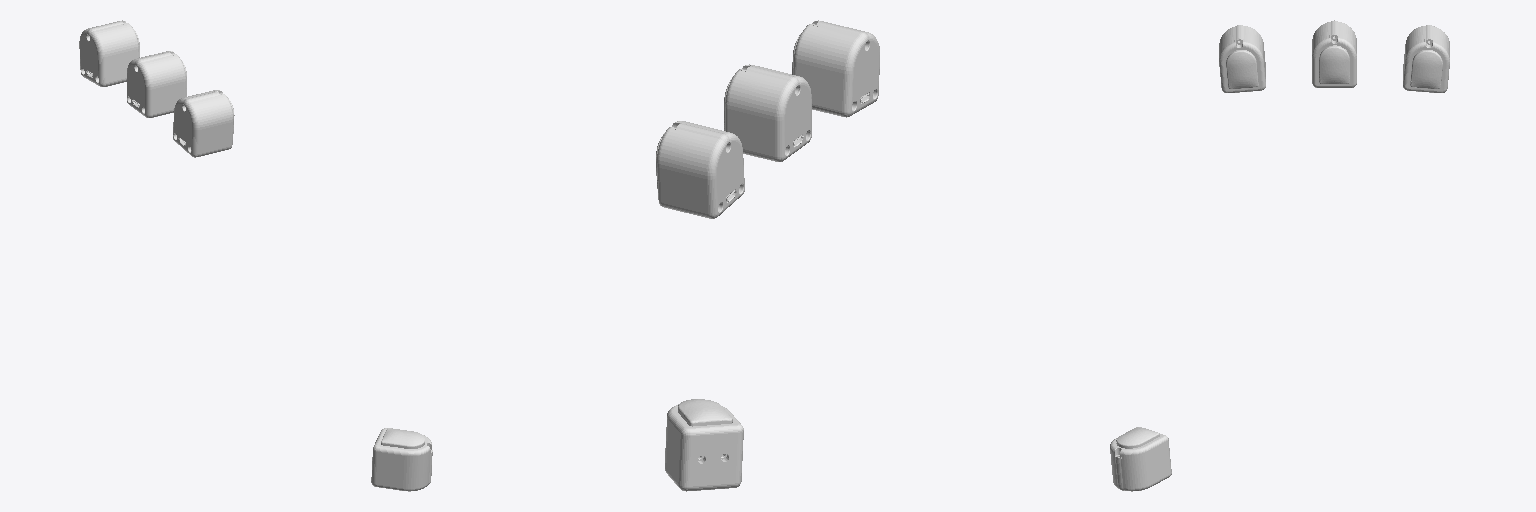
URDF robot description (allegro_hand_left):
<?xml version="1.0" ?>

<robot name="allegro_hand_left" xmlns:xacro="http://www.ros.org/wiki/xacro">
  <link name="base_link">
    <visual>
      <geometry>
        <mesh filename="meshes_STL/base_link_left.STL"/>
      </geometry>
      <origin rpy="-1.5707963259 0 0" xyz="0 0 0 "/>
      <material name="black">
        <color rgba="0.2 0.2 0.2 1"/>
      </material>
    </visual>
    <collision>
      <geometry>
        <mesh filename="meshes_STL/base_link_left.STL"/>
      </geometry>
    </collision>
     <inertial>
      <mass value="1"/>
      <inertia ixx="0.0" ixy="0.0" ixz="0.0" iyy="0.0" iyz="0.0" izz="0.0"/>
    </inertial>
  </link>

  <link name="link_8.0">
    <visual>
      <geometry>
        <mesh filename="meshes_STL/link_0.0.STL"/>
      </geometry>
      <material name="black"/>
    </visual>
    <collision>
      <geometry>
        <mesh filename="meshes_STL/link_0.0.STL"/>
      </geometry>
    </collision>
     <inertial>
      <mass value="1"/>
      <inertia ixx="0.0" ixy="0.0" ixz="0.0" iyy="0.0" iyz="0.0" izz="0.0"/>
    </inertial>
  </link>
  <joint name="joint_8.0" type="revolute">
    <axis xyz="0 0 1"/>
    <limit effort="0" lower="-0.47" upper="0.47" velocity="0"/>
    <parent link="base_link"/>
    <child link="link_8.0"/>
    <origin rpy="-0.08726646255 0 0" xyz="0 0.0435 -0.001542"/>
  </joint>
  <link name="link_9.0">
    <visual>
      <geometry>
        <mesh filename="meshes_STL/link_1.0.STL"/>
      </geometry>
      <material name="black"/>
    </visual>
    <collision>
     <geometry>
        <mesh filename="meshes_STL/link_1.0.STL"/>
      </geometry>
    </collision>
     <inertial>
      <mass value="1"/>
      <inertia ixx="0.0" ixy="0.0" ixz="0.0" iyy="0.0" iyz="0.0" izz="0.0"/>
    </inertial>
  </link>
  <joint name="joint_9.0" type="revolute">
    <limit effort="0" lower="-0.196" upper="1.61" velocity="0"/>
    <axis xyz="0 1 0"/>
    <parent link="link_8.0"/>
    <child link="link_9.0"/>
    <origin xyz="0 0 0.0164"/>
  </joint>
  <link name="link_10.0">
    <visual>
      <geometry>
        <mesh filename="meshes_STL/link_2.0.STL"/>
      </geometry>
      <material name="black"/>
    </visual>
    <collision>
     <geometry>
        <mesh filename="meshes_STL/link_2.0.STL"/>
      </geometry>
    </collision>
     <inertial>
      <mass value="1"/>
      <inertia ixx="0.0" ixy="0.0" ixz="0.0" iyy="0.0" iyz="0.0" izz="0.0"/>
    </inertial>
  </link>
  <joint name="joint_10.0" type="revolute">
    <axis xyz="0 1 0"/>
    <limit effort="0" lower="-0.174" upper="1.709" velocity="0"/>
    <parent link="link_9.0"/>
    <child link="link_10.0"/>
    <origin xyz="0 0 0.054"/>
  </joint>
  <link name="link_11.0">
    <visual>
      <geometry>
        <mesh filename="meshes_STL/link_3.0.STL"/>
      </geometry>
      <material name="black"/>
    </visual>
    <collision>
      <geometry>
        <mesh filename="meshes_STL/link_3.0.STL"/>
      </geometry>
    </collision>
     <inertial>
      <mass value="1"/>
      <inertia ixx="0.0" ixy="0.0" ixz="0.0" iyy="0.0" iyz="0.0" izz="0.0"/>
    </inertial>
  </link>
  <joint name="joint_11.0" type="revolute">
    <axis xyz="0 1 0"/>
    <limit effort="0" lower="-0.227" upper="1.618" velocity="0"/>
    <parent link="link_10.0"/>
    <child link="link_11.0"/>
    <origin xyz="0 0 0.0384"/>
  </joint>
  <link name="link_11.0_tip">
    <visual>
      <geometry>
        <mesh filename="meshes_STL/digit.STL"/>
      </geometry>
      <material name="white">
        <color rgba=".9 .9 .9 1"/>
      </material>
    </visual>
    <collision>
       <geometry>
        <box size="0.028 0.028 0.034"/>
      </geometry>
      <origin rpy="0 0 0" xyz="-.0023 0 0"/>
    </collision>
     <inertial>
      <mass value="1"/>
      <inertia ixx="0.0" ixy="0.0" ixz="0.0" iyy="0.0" iyz="0.0" izz="0.0"/>
    </inertial>
  </link>
  <joint name="joint_11.0_tip" type="fixed">
    <parent link="link_11.0"/>
    <child link="link_11.0_tip"/>
    <origin rpy="0 0 0" xyz="0 0 0.0147"/>
  </joint>
  <link name="link_4.0">
    <visual>
      <geometry>
        <mesh filename="meshes_STL/link_0.0.STL"/>
      </geometry>
      <material name="black"/>
    </visual>
    <collision>
      <geometry>
        <mesh filename="meshes_STL/link_0.0.STL"/>
      </geometry>
    </collision>
     <inertial>
      <mass value="1"/>
      <inertia ixx="0.0" ixy="0.0" ixz="0.0" iyy="0.0" iyz="0.0" izz="0.0"/>
    </inertial>
  </link>
  <joint name="joint_4.0" type="revolute">
    <axis xyz="0 0 1"/>
    <limit effort="0" lower="-0.47" upper="0.47" velocity="0"/>
    <parent link="base_link"/>
    <child link="link_4.0"/>
    <origin rpy="0.0 0 0" xyz="0 0 0.0007"/>
  </joint>
  <link name="link_5.0">
    <visual>
      <geometry>
        <mesh filename="meshes_STL/link_1.0.STL"/>
      </geometry>
      <material name="black"/>
    </visual>
    <collision>
     <geometry>
        <mesh filename="meshes_STL/link_1.0.STL"/>
      </geometry>
    </collision>
     <inertial>
      <mass value="1"/>
      <inertia ixx="0.0" ixy="0.0" ixz="0.0" iyy="0.0" iyz="0.0" izz="0.0"/>
    </inertial>
  </link>
  <joint name="joint_5.0" type="revolute">
    <limit effort="0" lower="-0.196" upper="1.61" velocity="0"/>
    <axis xyz="0 1 0"/>
    <parent link="link_4.0"/>
    <child link="link_5.0"/>
    <origin xyz="0 0 0.0164"/>
  </joint>
  <link name="link_6.0">
    <visual>
      <geometry>
        <mesh filename="meshes_STL/link_2.0.STL"/>
      </geometry>
      <material name="black"/>
    </visual>
    <collision>
      <geometry>
        <mesh filename="meshes_STL/link_2.0.STL"/>
      </geometry>
    </collision>
     <inertial>
      <mass value="1"/>
      <inertia ixx="0.0" ixy="0.0" ixz="0.0" iyy="0.0" iyz="0.0" izz="0.0"/>
    </inertial>
  </link>
  <joint name="joint_6.0" type="revolute">
    <axis xyz="0 1 0"/>
    <limit effort="0" lower="-0.174" upper="1.709" velocity="0"/>
    <parent link="link_5.0"/>
    <child link="link_6.0"/>
    <origin xyz="0 0 0.054"/>
  </joint>
  <link name="link_7.0">
    <visual>
      <geometry>
        <mesh filename="meshes_STL/link_3.0.STL"/>
      </geometry>
      <material name="black"/>
    </visual>
    <collision>
     <geometry>
        <mesh filename="meshes_STL/link_3.0.STL"/>
      </geometry>
    </collision>
     <inertial>
      <mass value="1"/>
      <inertia ixx="0.0" ixy="0.0" ixz="0.0" iyy="0.0" iyz="0.0" izz="0.0"/>
    </inertial>
  </link>
  <joint name="joint_7.0" type="revolute">
    <axis xyz="0 1 0"/>
    <limit effort="0" lower="-0.227" upper="1.618" velocity="0"/>
    <parent link="link_6.0"/>
    <child link="link_7.0"/>
    <origin xyz="0 0 0.0384"/>
  </joint>
  <link name="link_7.0_tip">
    <visual>
      <geometry>
        <mesh filename="meshes_STL/digit.STL"/>
      </geometry>
      <material name="white">
        <color rgba=".9 .9 .9 1"/>
      </material>
    </visual>
    <collision>
     <geometry>
        <box size="0.028 0.028 0.034"/>
      </geometry>
      <origin rpy="0 0 0" xyz="-.0023 0 0"/>
    </collision>
     <inertial>
      <mass value="1"/>
      <inertia ixx="0.0" ixy="0.0" ixz="0.0" iyy="0.0" iyz="0.0" izz="0.0"/>
    </inertial>
  </link>
  <joint name="joint_7.0_tip" type="fixed">
    <parent link="link_7.0"/>
    <child link="link_7.0_tip"/>
    <origin rpy="0 0 0" xyz="0 0 0.0147"/>
  </joint>
  <link name="link_0.0">
    <visual>
      <geometry>
        <mesh filename="meshes_STL/link_0.0.STL"/>
      </geometry>
      <material name="black"/>
    </visual>
    <collision>
      <geometry>
        <mesh filename="meshes_STL/link_0.0.STL"/>
      </geometry>
    </collision>
     <inertial>
      <mass value="1"/>
      <inertia ixx="0.0" ixy="0.0" ixz="0.0" iyy="0.0" iyz="0.0" izz="0.0"/>
    </inertial>
  </link>
  <joint name="joint_0.0" type="revolute">
    <axis xyz="0 0 1"/>
    <limit effort="0" lower="-0.47" upper="0.47" velocity="0"/>
    <parent link="base_link"/>
    <child link="link_0.0"/>
    <origin rpy="0.08726646255 0 0" xyz="0 -0.0435 -0.001542"/>
  </joint>
  <link name="link_1.0">
    <visual>
      <geometry>
        <mesh filename="meshes_STL/link_1.0.STL"/>
      </geometry>
      <material name="black"/>
    </visual>
    <collision>
      <geometry>
        <mesh filename="meshes_STL/link_1.0.STL"/>
      </geometry>
    </collision>
     <inertial>
      <mass value="1"/>
      <inertia ixx="0.0" ixy="0.0" ixz="0.0" iyy="0.0" iyz="0.0" izz="0.0"/>
    </inertial>
  </link>
  <joint name="joint_1.0" type="revolute">
    <limit effort="0" lower="-0.196" upper="1.61" velocity="0"/>
    <axis xyz="0 1 0"/>
    <parent link="link_0.0"/>
    <child link="link_1.0"/>
    <origin xyz="0 0 0.0164"/>
  </joint>
  <link name="link_2.0">
    <visual>
      <geometry>
        <mesh filename="meshes_STL/link_2.0.STL"/>
      </geometry>
      <material name="black"/>
    </visual>
    <collision>
      <geometry>
        <mesh filename="meshes_STL/link_2.0.STL"/>
      </geometry>
    </collision>
     <inertial>
      <mass value="1"/>
      <inertia ixx="0.0" ixy="0.0" ixz="0.0" iyy="0.0" iyz="0.0" izz="0.0"/>
    </inertial>
  </link>
  <joint name="joint_2.0" type="revolute">
    <axis xyz="0 1 0"/>
    <limit effort="0" lower="-0.174" upper="1.709" velocity="0"/>
    <parent link="link_1.0"/>
    <child link="link_2.0"/>
    <origin xyz="0 0 0.054"/>
  </joint>
  <link name="link_3.0">
    <visual>
      <geometry>
        <mesh filename="meshes_STL/link_3.0.STL"/>
      </geometry>
      <material name="black"/>
    </visual>
    <collision>
     <geometry>
        <mesh filename="meshes_STL/link_3.0.STL"/>
      </geometry>
    </collision>
     <inertial>
      <mass value="1"/>
      <inertia ixx="0.0" ixy="0.0" ixz="0.0" iyy="0.0" iyz="0.0" izz="0.0"/>
    </inertial>
  </link>
  <joint name="joint_3.0" type="revolute">
    <axis xyz="0 1 0"/>
    <limit effort="0" lower="-0.227" upper="1.618" velocity="0"/>
    <parent link="link_2.0"/>
    <child link="link_3.0"/>
    <origin xyz="0 0 0.0384"/>
  </joint>
  <link name="link_3.0_tip">
    <visual>
      <geometry>
        <mesh filename="meshes_STL/digit.STL"/>
      </geometry>
      <material name="white">
        <color rgba=".9 .9 .9 1"/>
      </material>
    </visual>
    <collision>
       <geometry>
        <box size="0.028 0.028 0.034"/>
      </geometry>
      <origin rpy="0 0 0" xyz="-.0023 0 0"/>
    </collision>
     <inertial>
      <mass value="1"/>
      <inertia ixx="0.0" ixy="0.0" ixz="0.0" iyy="0.0" iyz="0.0" izz="0.0"/>
    </inertial>
  </link>
  <joint name="joint_3.0_tip" type="fixed">
    <parent link="link_3.0"/>
    <child link="link_3.0_tip"/>
    <origin rpy="0 0 0" xyz="0 0 0.0147"/>
  </joint>


  <link name="link_12.0">
    <visual>
      <geometry>
        <mesh filename="meshes_STL/link_12.0_left.STL"/>
      </geometry>
      <material name="black">
        <color rgba=".2 .2 .2 1"/>
      </material>
      <origin rpy="3.1415926518 0 0" xyz="0 0 0"/>
    </visual>
    <collision>
      <geometry>
        <mesh filename="meshes_STL/link_12.0_left.STL"/>
      </geometry>
    </collision>
     <inertial>
      <mass value="1"/>
      <inertia ixx="0.0" ixy="0.0" ixz="0.0" iyy="0.0" iyz="0.0" izz="0.0"/>
    </inertial>
  </link>
  <joint name="joint_12.0" type="revolute">
    <axis xyz="+1 0 0"/>
    <limit effort="0" lower="0.263" upper="1.396" velocity="0"/>
    <parent link="base_link"/>
    <child link="link_12.0"/>
    <origin rpy="0 -1.65806278845 1.5707963259" xyz="-0.0182 -0.019333 -0.045987"/>
  </joint>
  <link name="link_13.0">
    <visual>
      <geometry>
        <mesh filename="meshes_STL/link_13.0.STL"/>
      </geometry>
      <material name="black">
        <color rgba=".2 .2 .2 1"/>
      </material>
    </visual>
    <collision>
      <geometry>
        <mesh filename="meshes_STL/link_13.0.STL"/>
      </geometry>
    </collision>
     <inertial>
      <mass value="1"/>
      <inertia ixx="0.0" ixy="0.0" ixz="0.0" iyy="0.0" iyz="0.0" izz="0.0"/>
    </inertial>
  </link>
  <joint name="joint_13.0" type="revolute">
    <axis xyz="0 0 -1"/>
    <limit effort="0" lower="-0.105" upper="1.163" velocity="0"/>
    <parent link="link_12.0"/>
    <child link="link_13.0"/>

    <origin xyz="-0.027 -0.005 0.0399"/>
  </joint>
  <link name="link_14.0">
    <visual>
      <geometry>
        <mesh filename="meshes_STL/link_14.0.STL"/>
      </geometry>
      <material name="black">
		  	</material>
    </visual>
    <collision>
      <geometry>
        <mesh filename="meshes_STL/link_14.0.STL"/>
      </geometry>
    </collision>
     <inertial>
      <mass value="1"/>
      <inertia ixx="0.0" ixy="0.0" ixz="0.0" iyy="0.0" iyz="0.0" izz="0.0"/>
    </inertial>
  </link>
  <joint name="joint_14.0" type="revolute">
    <axis xyz="0 1 0"/>
    <limit effort="0" lower="-0.189" upper="1.644" velocity="0"/>
    <parent link="link_13.0"/>
    <child link="link_14.0"/>
    <origin xyz="0 0 0.0177"/>
  </joint>
  <link name="link_15.0">
    <visual>
      <geometry>
        <mesh filename="meshes_STL/link_15.0.STL"/>
      </geometry>
      <material name="black">
    	</material>
    </visual>
    <collision>
       <geometry>
        <mesh filename="meshes_STL/link_15.0.STL"/>
      </geometry>
    </collision>
     <inertial>
      <mass value="1"/>
      <inertia ixx="0.0" ixy="0.0" ixz="0.0" iyy="0.0" iyz="0.0" izz="0.0"/>
    </inertial>
  </link>
  <joint name="joint_15.0" type="revolute">
    <axis xyz="0 1 0"/>
    <limit effort="0" lower="-0.162" upper="1.719" velocity="0"/>
    <parent link="link_14.0"/>
    <child link="link_15.0"/>
    <origin xyz="0 0 0.0514"/>
  </joint>
  <link name="link_15.0_tip">
    <visual>
      <geometry>
        <mesh filename="meshes_STL/digit.STL"/>
      </geometry>
      <material name="white">
        <color rgba=".9 .9 .9 1"/>
      </material>
    </visual>
    <collision>
      <geometry>
        <box size="0.028 0.028 0.034"/>
      </geometry>
      <origin rpy="0 0 0" xyz="-.0023 0 0"/>
    </collision>
     <inertial>
      <mass value="1"/>
      <inertia ixx="0.0" ixy="0.0" ixz="0.0" iyy="0.0" iyz="0.0" izz="0.0"/>
    </inertial>
  </link>
  <joint name="joint_15.0_tip" type="fixed">
    <parent link="link_15.0"/>
    <child link="link_15.0_tip"/>
    <origin rpy="0 0 0" xyz="0 0 0.0303"/>
  </joint>


  <link name="end_0">
    <visual>
      <geometry>
        <box size="0.0001 0.0001 0.0001"/>
      </geometry>
      <material name="red">
        <color rgba=".9, 0, 0,  1"/>
      </material>
    </visual>
    <collision>
       <geometry>
         <box size="0.0001 0.0001 0.0001"/>
      </geometry>
      <origin rpy="0 0 0" xyz="0 0 0"/>
    </collision>
     <inertial>
      <mass value="1"/>
      <inertia ixx="0.0" ixy="0.0" ixz="0.0" iyy="0.0" iyz="0.0" izz="0.0"/>
    </inertial>
  </link>
  <joint name="end_joint_0" type="fixed">
    <parent link="link_11.0_tip"/>
    <child link="end_0"/>
    <origin rpy="0 0 0" xyz="0.0185 0 0.0155"/>
  </joint>
  <link name="end_1">
    <visual>
      <geometry>
        <box size="0.0001 0.0001 0.0001"/>
      </geometry>
      <material name="red">
        <color rgba=".9, 0, 0,  1"/>
      </material>
    </visual>
    <collision>
       <geometry>
         <box size="0.0001 0.0001 0.0001"/>
      </geometry>
      <origin rpy="0 0 0" xyz="0 0 0"/>
    </collision>
     <inertial>
      <mass value="1"/>
      <inertia ixx="0.0" ixy="0.0" ixz="0.0" iyy="0.0" iyz="0.0" izz="0.0"/>
    </inertial>
  </link>
  <joint name="end_joint_1" type="fixed">
    <parent link="link_7.0_tip"/>
    <child link="end_1"/>
    <origin rpy="0 0 0" xyz="0.0185 0 0.0155"/>
  </joint>
  <link name="end_2">
    <visual>
      <geometry>
        <box size="0.0001 0.0001 0.0001"/>
      </geometry>
      <material name="red">
        <color rgba=".9, 0, 0,  1"/>
      </material>
    </visual>
    <collision>
       <geometry>
         <box size="0.0001 0.0001 0.0001"/>
      </geometry>
      <origin rpy="0 0 0" xyz="0 0 0"/>
    </collision>
     <inertial>
      <mass value="1"/>
      <inertia ixx="0.0" ixy="0.0" ixz="0.0" iyy="0.0" iyz="0.0" izz="0.0"/>
    </inertial>
  </link>
  <joint name="end_joint_2" type="fixed">
    <parent link="link_3.0_tip"/>
    <child link="end_2"/>
    <origin rpy="0 0 0" xyz="0.0185 0 0.0155"/>
  </joint>
  <link name="end_3">
    <visual>
      <geometry>
        <box size="0.0001 0.0001 0.0001"/>
      </geometry>
      <material name="red">
        <color rgba=".9, 0, 0,  1"/>
      </material>
    </visual>
    <collision>
       <geometry>
         <box size="0.0001 0.0001 0.0001"/>
      </geometry>
      <origin rpy="0 0 0" xyz="0 0 0"/>
    </collision>
     <inertial>
      <mass value="1"/>
      <inertia ixx="0.0" ixy="0.0" ixz="0.0" iyy="0.0" iyz="0.0" izz="0.0"/>
    </inertial>
  </link>
  <joint name="end_joint_3" type="fixed">
    <parent link="link_15.0_tip"/>
    <child link="end_3"/>
    <origin rpy="0 0 0" xyz="0.0185 0 0.0155"/>
  </joint>


    <link name="end_cam_0">
    <visual>
      <geometry>
        <box size="0.0001 0.0001 0.0001"/>
      </geometry>
      <material name="red">
        <color rgba=".9, 0, 0,  1"/>
      </material>
    </visual>
    <collision>
       <geometry>
         <box size="0.0001 0.0001 0.0001"/>
      </geometry>
      <origin rpy="0 0 0" xyz="0 0 0"/>
    </collision>
     <inertial>
      <mass value="1"/>
      <inertia ixx="0.0" ixy="0.0" ixz="0.0" iyy="0.0" iyz="0.0" izz="0.0"/>
    </inertial>
  </link>
  <joint name="end_cam_joint_0" type="fixed">
    <parent link="link_11.0_tip"/>
    <child link="end_cam_0"/>
    <origin rpy="0 0 0" xyz="-0.001073 0 0.017119"/>
  </joint>
   <link name="end_cam_1">
    <visual>
      <geometry>
        <box size="0.0001 0.0001 0.0001"/>
      </geometry>
      <material name="red">
        <color rgba=".9, 0, 0,  1"/>
      </material>
    </visual>
    <collision>
       <geometry>
         <box size="0.0001 0.0001 0.0001"/>
      </geometry>
      <origin rpy="0 0 0" xyz="0 0 0"/>
    </collision>
     <inertial>
      <mass value="1"/>
      <inertia ixx="0.0" ixy="0.0" ixz="0.0" iyy="0.0" iyz="0.0" izz="0.0"/>
    </inertial>
  </link>
  <joint name="end_cam_joint_1" type="fixed">
    <parent link="link_7.0_tip"/>
    <child link="end_cam_1"/>
    <origin rpy="0 0 0" xyz="-0.001073 0 0.017119"/>
  </joint>
  <link name="end_cam_2">
    <visual>
      <geometry>
        <box size="0.0001 0.0001 0.0001"/>
      </geometry>
      <material name="red">
        <color rgba=".9, 0, 0,  1"/>
      </material>
    </visual>
    <collision>
       <geometry>
         <box size="0.0001 0.0001 0.0001"/>
      </geometry>
      <origin rpy="0 0 0" xyz="0 0 0"/>
    </collision>
     <inertial>
      <mass value="1"/>
      <inertia ixx="0.0" ixy="0.0" ixz="0.0" iyy="0.0" iyz="0.0" izz="0.0"/>
    </inertial>
  </link>
  <joint name="end_cam_joint_2" type="fixed">
    <parent link="link_3.0_tip"/>
    <child link="end_cam_2"/>
    <origin rpy="0 0 0" xyz="-0.001073 0 0.017119"/>
  </joint>
  <link name="end_cam_3">
    <visual>
      <geometry>
        <box size="0.0001 0.0001 0.0001"/>
      </geometry>
      <material name="red">
        <color rgba=".9, 0, 0,  1"/>
      </material>
    </visual>
    <collision>
       <geometry>
         <box size="0.0001 0.0001 0.0001"/>
      </geometry>
      <origin rpy="0 0 0" xyz="0 0 0"/>
    </collision>
     <inertial>
      <mass value="1"/>
      <inertia ixx="0.0" ixy="0.0" ixz="0.0" iyy="0.0" iyz="0.0" izz="0.0"/>
    </inertial>
  </link>
  <joint name="end_cam_joint_3" type="fixed">
    <parent link="link_15.0_tip"/>
    <child link="end_cam_3"/>
    <origin rpy="0 0 0" xyz="-0.001073 0 0.017119"/>
  </joint>


</robot>

--- Facts derived from the render (not from the file) ---
Views: 3 orthographic renders of the robot side by side, from view 1: azimuth 30°, elevation 25°; view 2: azimuth 150°, elevation 25°; view 3: azimuth 270°, elevation 25°.
Robot: allegro_hand_left — 29 links, 28 joints (16 revolute, 12 fixed); root link base_link; default pose: joints at zero except 1 at the middle of their limits (joint_12.0 = 0.8295).
Visible links, largest first — view 1: link_3.0_tip, link_15.0_tip, link_7.0_tip, link_11.0_tip; view 2: link_11.0_tip, link_7.0_tip, link_3.0_tip, link_15.0_tip; view 3: link_15.0_tip, link_11.0_tip, link_3.0_tip, link_7.0_tip.
Link boxes in pixels (<box>): link_3.0_tip: <box>173,90,234,157</box>; link_15.0_tip: <box>371,428,432,491</box>; link_7.0_tip: <box>127,51,186,117</box>; link_11.0_tip: <box>79,20,139,86</box>; link_11.0_tip: <box>656,121,744,218</box>; link_7.0_tip: <box>724,64,811,161</box>; link_3.0_tip: <box>792,20,879,117</box>; link_15.0_tip: <box>665,399,743,491</box>; link_15.0_tip: <box>1110,427,1171,491</box>; link_11.0_tip: <box>1403,25,1449,92</box>; link_3.0_tip: <box>1219,25,1265,92</box>; link_7.0_tip: <box>1312,20,1356,87</box>.
Bounding box of the posed robot: 0.1308 × 0.2049 × 0.2552 m (x, y, z).
4 mesh visuals loaded from 10 distinct referenced files (1 binary STL); not drawn: 17 (reference not matched to a file when rendering).